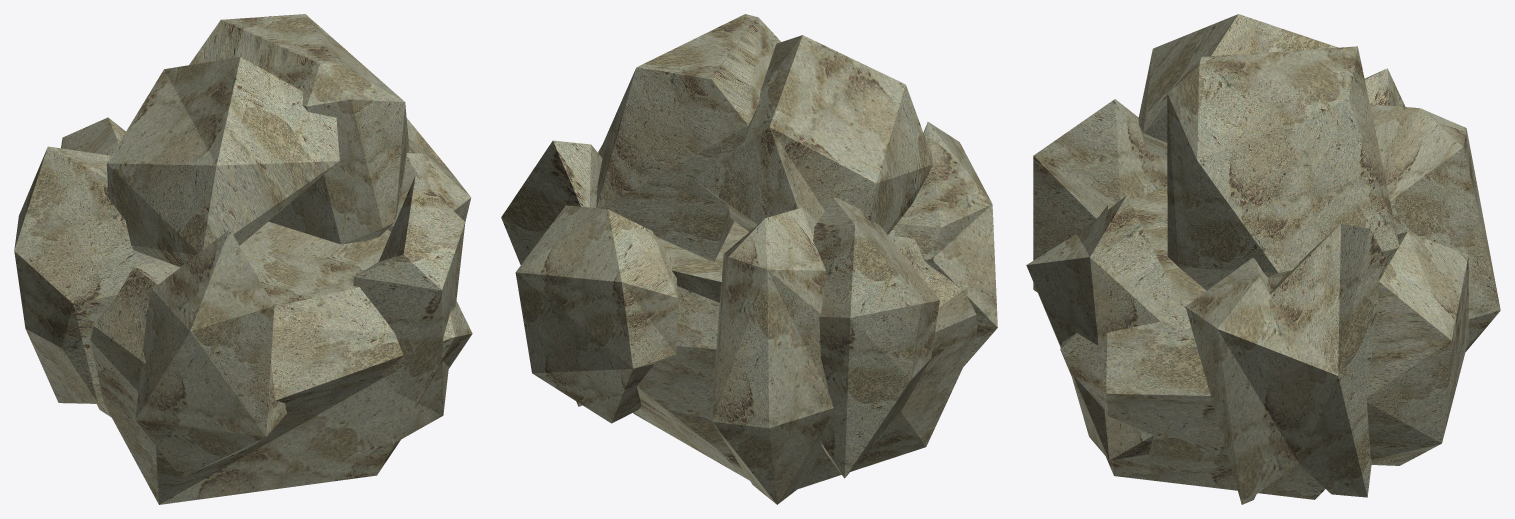
The model's file is poi_all_lair_cave_small_light_l3.fbx.
The picture shows the model from 3 angles, left to right: view 1: azimuth 30°, elevation 25°; view 2: azimuth 150°, elevation 25°; view 3: azimuth 270°, elevation 25°; orthographic projection. The views are drawn at different scales.
Visible parts, largest first — view 1: mesh_node; view 2: mesh_node; view 3: mesh_node.
Part boxes in pixels (box(x1,y1,x2,y2)): mesh_node: box(14, 14, 472, 504); mesh_node: box(501, 14, 997, 504); mesh_node: box(1026, 14, 1500, 504).
Bounding box in the file's own units: 14.08 × 12.7 × 12.57.
Materials: 1 (1 with a texture image).
